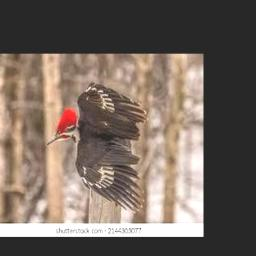Woodpecker: (47, 82, 148, 213)
